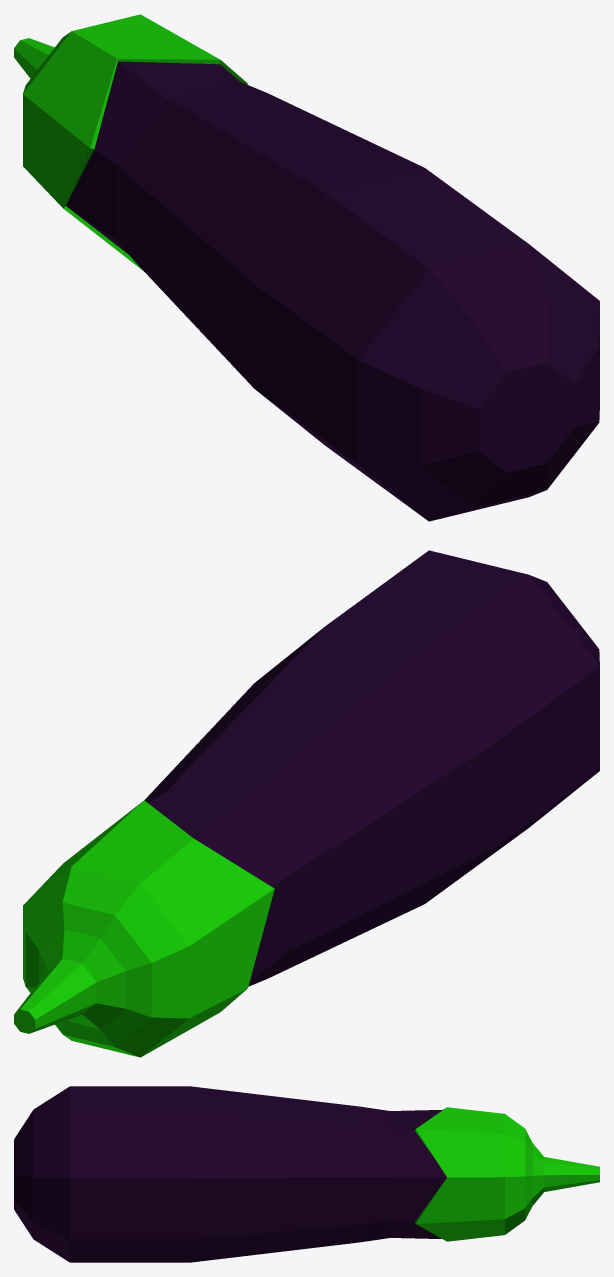
The model's file is aubergine01.obj.
3 views of the same model, one above another, from view 1: azimuth 30°, elevation 25°; view 2: azimuth 150°, elevation 25°; view 3: azimuth 270°, elevation 25° (orthographic). The views are drawn at different scales.
Visible parts, largest first — view 1: Cylinder.001; view 2: Cylinder.001; view 3: Cylinder.001.
Boxes of the visible parts, x1,y1,x2,y2 form: Cylinder.001: (14,14,599,521); Cylinder.001: (14,550,599,1057); Cylinder.001: (14,1086,599,1262).
Bounding box in the file's own units: 0.0527 × 0.0527 × 0.1897.
1 material, 1 textured.
